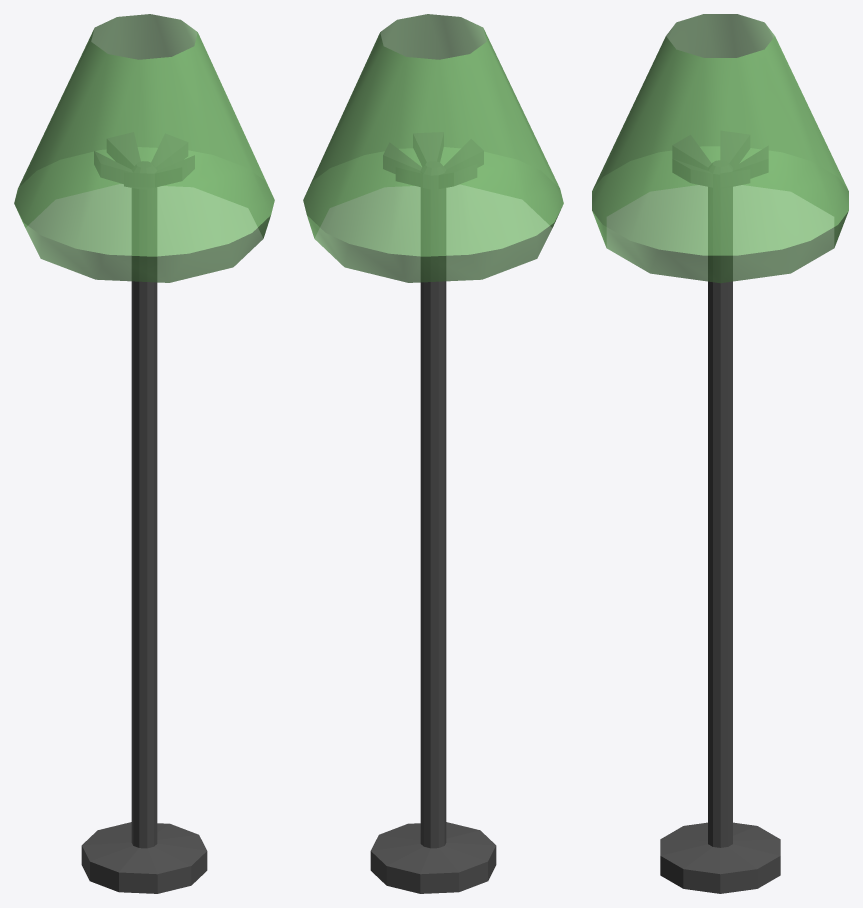
Rendered from Lamp.fbx.
3 renders of one model, left to right at view 1: azimuth 30°, elevation 25°; view 2: azimuth 150°, elevation 25°; view 3: azimuth 270°, elevation 25°, orthographic.
Visible parts, largest first — view 1: pCone1, pCylinder1; view 2: pCone1, pCylinder1; view 3: pCone1, pCylinder1.
Boxes of the visible parts, bbox=[...] form: pCone1: bbox=[14, 14, 274, 282]; pCylinder1: bbox=[81, 132, 207, 893]; pCone1: bbox=[303, 14, 563, 282]; pCylinder1: bbox=[370, 132, 496, 893]; pCone1: bbox=[592, 14, 848, 283]; pCylinder1: bbox=[660, 131, 780, 893].
Size of the model in its own units: 4.1 by 14.53 by 4.07.
